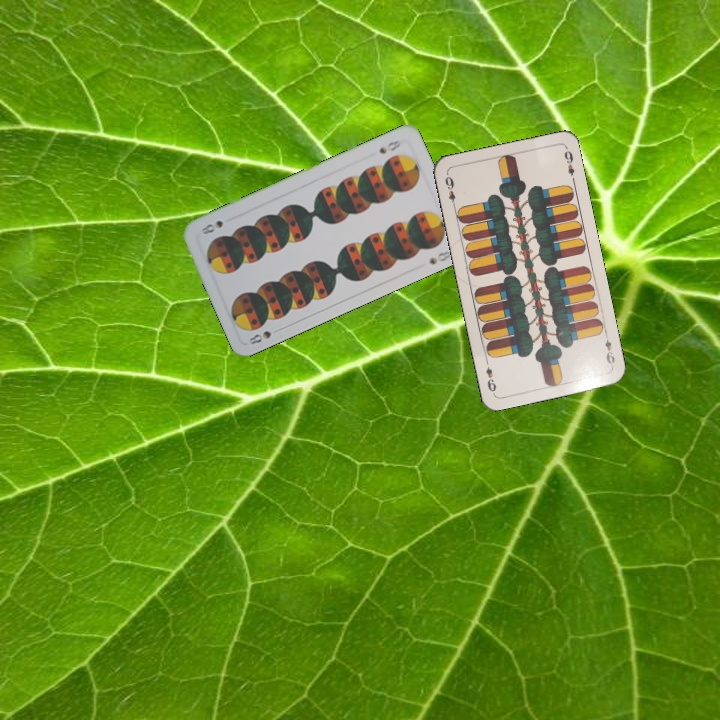E9: (441, 170, 458, 210), (601, 329, 617, 370)
S8: (244, 324, 284, 347), (375, 136, 404, 156)
